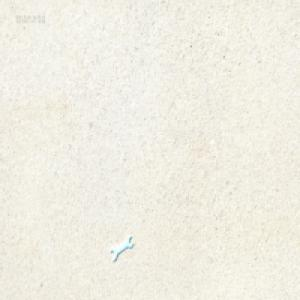Wrench: (110, 233, 133, 262)
